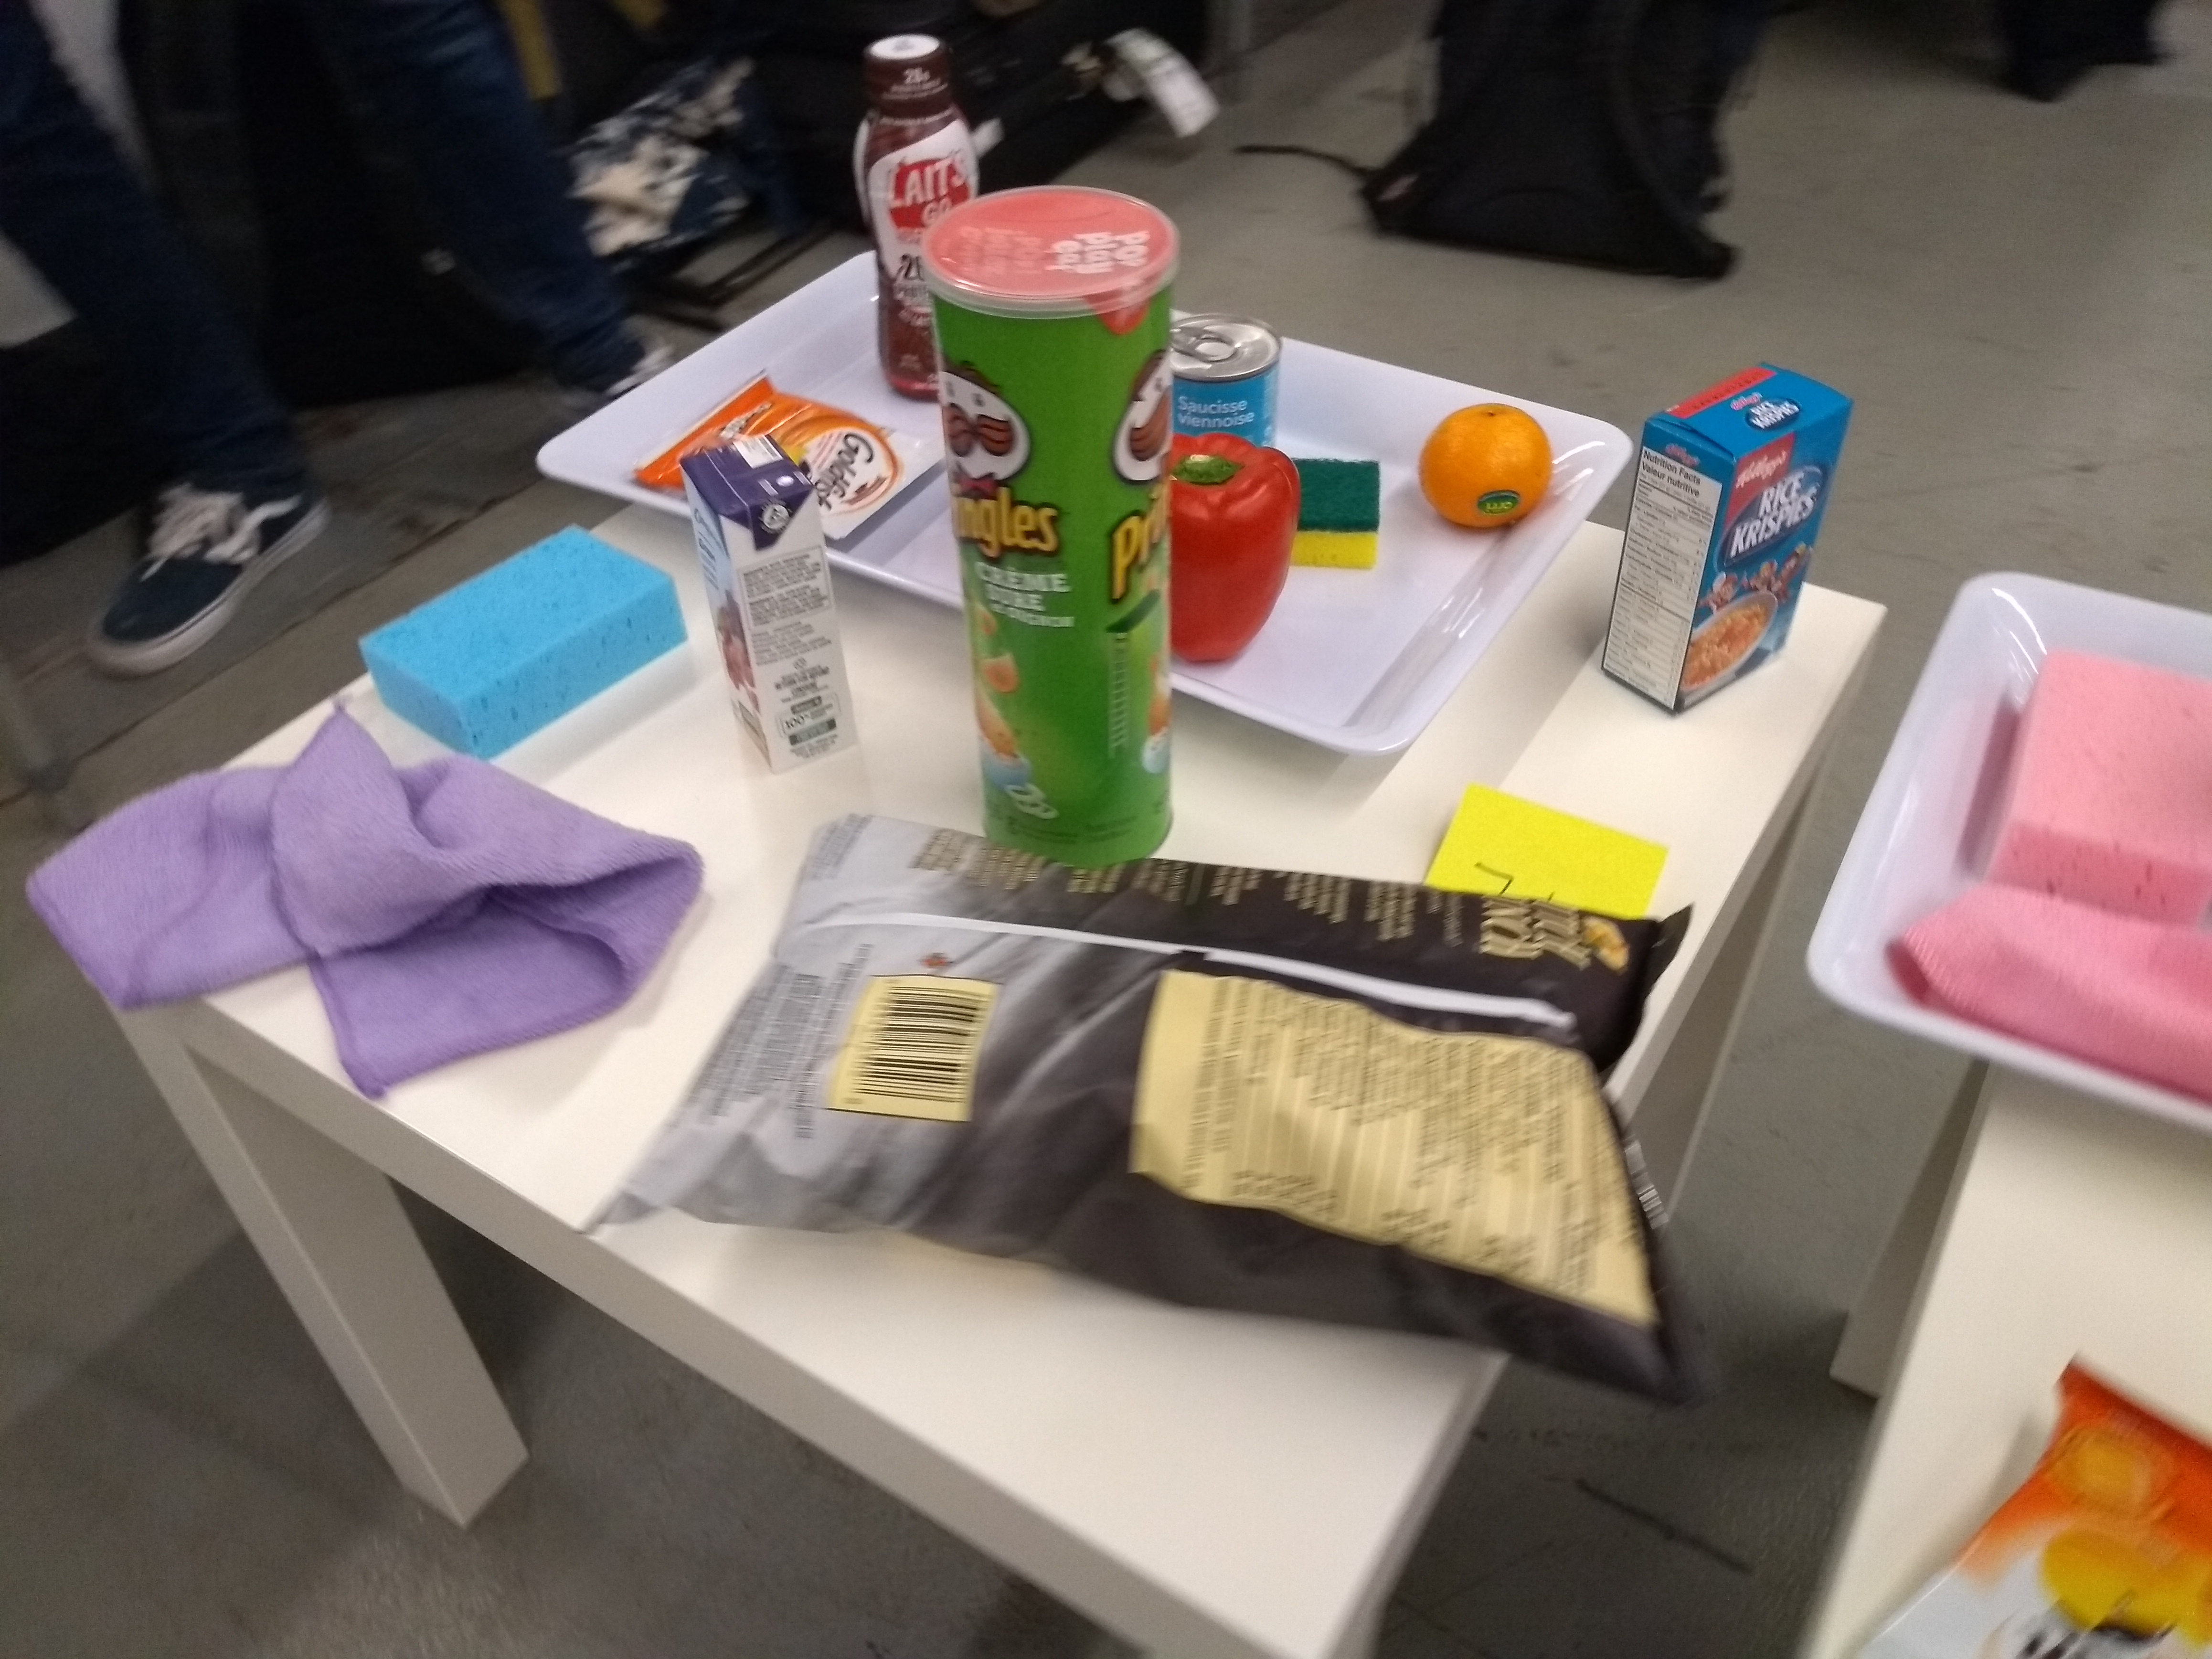cereal: (1587, 350, 1864, 727)
cloth_opl: (17, 706, 712, 1112)
grape_juice: (674, 432, 869, 796)
orange: (1413, 390, 1559, 538)
potato_chips: (571, 798, 1728, 1417)
pringles: (902, 173, 1190, 878)
sponge_opl: (348, 512, 693, 777)
